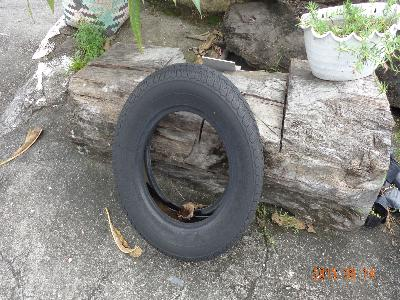tire: (111, 61, 266, 265)
